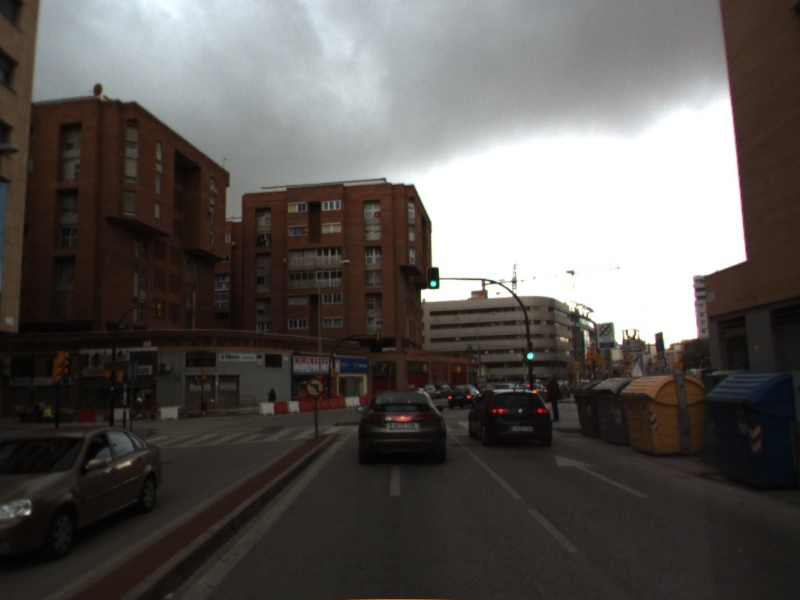STRAIGHT: (552, 453, 651, 500)
